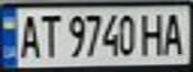0: (118, 10, 139, 57)
4: (100, 10, 121, 57)
7: (81, 11, 103, 57)
9: (63, 11, 87, 58)
A: (157, 9, 190, 56), (15, 11, 42, 60)
H: (139, 10, 169, 56)
T: (36, 11, 63, 58)
